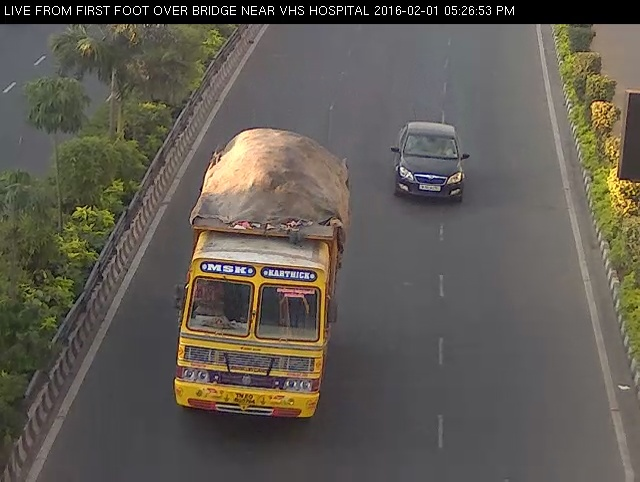Bus: (158, 123, 369, 425)
Car: (383, 115, 475, 211)
